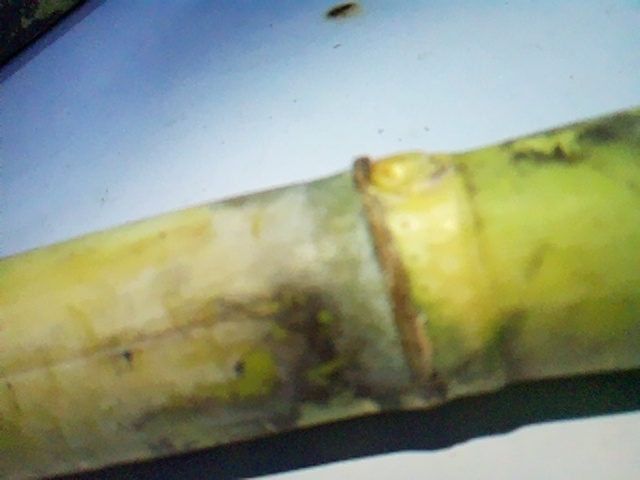Good Sugarcane: (0, 102, 637, 480)
Node: (304, 127, 503, 418)
